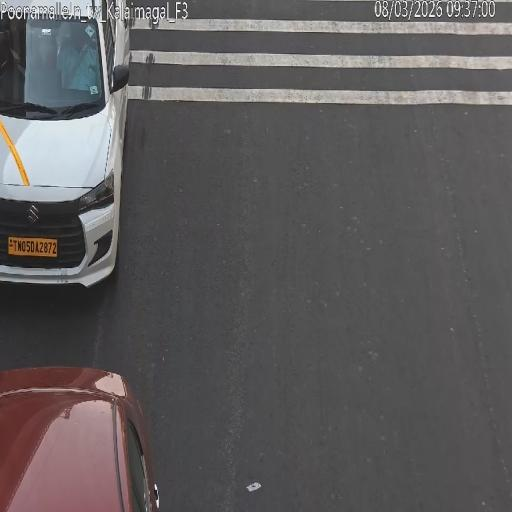person_with_seatbelt: (64, 22, 98, 86), (9, 44, 29, 82)
